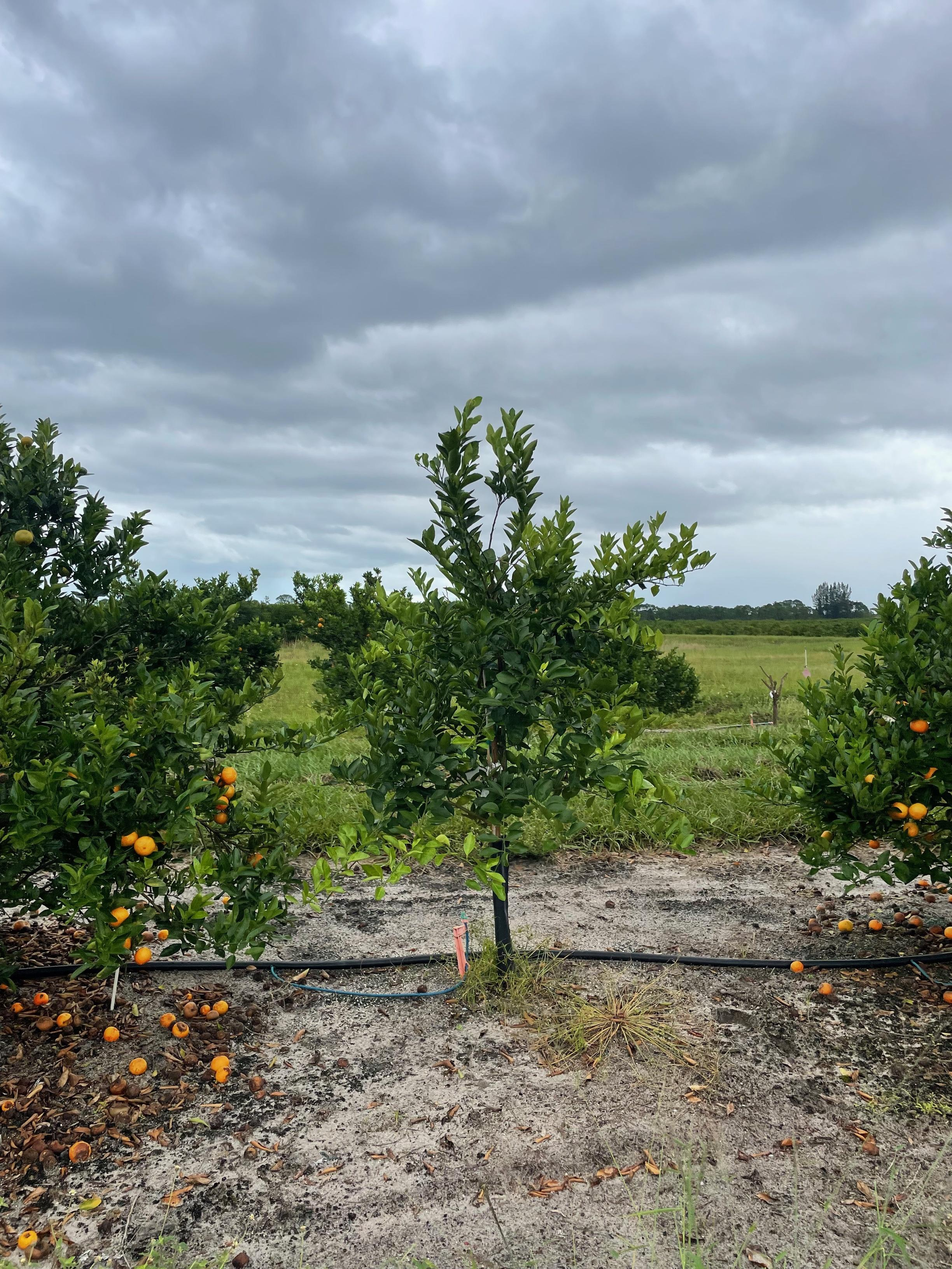fruit_on_ground: (105, 904, 131, 930), (11, 525, 37, 548), (134, 834, 158, 858), (244, 851, 268, 872), (132, 945, 154, 967), (117, 829, 140, 850), (907, 801, 929, 822), (887, 800, 909, 821), (112, 933, 135, 953), (908, 716, 931, 735), (217, 781, 237, 801), (219, 766, 240, 785), (920, 763, 940, 782), (901, 821, 920, 839), (210, 809, 231, 825), (17, 432, 35, 450), (919, 828, 938, 845), (126, 746, 145, 761), (212, 794, 231, 809), (861, 770, 878, 786), (210, 774, 228, 789), (818, 828, 835, 843), (866, 837, 882, 850), (316, 622, 325, 628)
fruit_on_tree: (67, 1139, 93, 1165), (16, 1228, 40, 1252), (208, 1054, 232, 1075), (213, 1064, 232, 1085), (55, 1010, 75, 1029), (128, 1057, 148, 1076), (102, 1024, 121, 1043), (107, 1076, 127, 1094), (247, 1073, 267, 1091), (231, 1249, 251, 1267), (171, 1020, 191, 1038), (158, 1010, 177, 1028), (31, 990, 50, 1007), (182, 1000, 200, 1017), (212, 997, 230, 1014), (35, 1016, 54, 1031), (817, 980, 834, 996), (335, 1053, 351, 1069), (837, 917, 854, 932), (205, 1007, 221, 1022), (9, 999, 24, 1014), (198, 1002, 214, 1016), (155, 926, 171, 940), (868, 917, 884, 931), (12, 917, 29, 930), (939, 988, 952, 1005), (935, 882, 950, 896), (891, 910, 906, 924), (789, 959, 804, 973), (906, 913, 922, 926), (140, 929, 154, 943), (869, 888, 884, 901), (923, 891, 937, 904), (916, 878, 931, 890), (940, 924, 952, 939), (220, 893, 233, 906), (415, 982, 429, 994), (809, 923, 824, 934), (184, 990, 197, 1002), (931, 924, 943, 937), (814, 902, 827, 913), (807, 917, 820, 928), (0, 979, 10, 991)
